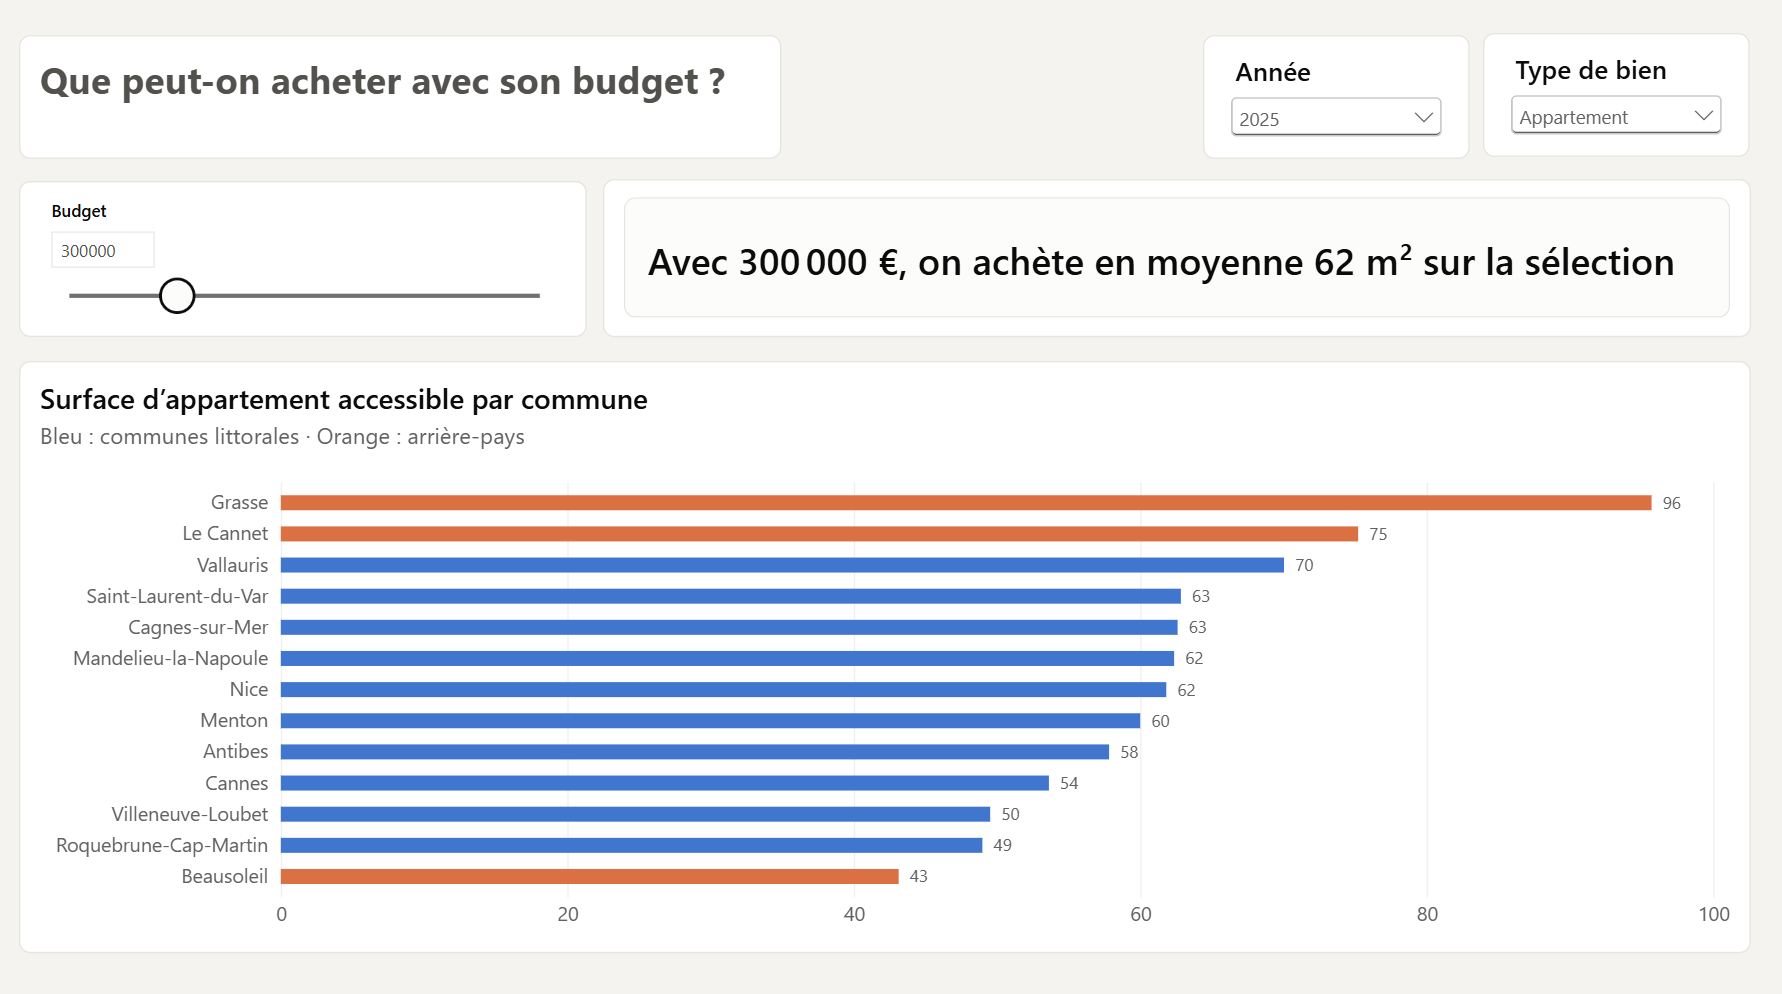

Layout of this report page (visuals, bound fields, positions):
{"tool":"powerbi","page":{"name":"Simulateur","canvas":[1280,720],"ordinal":1},"visuals":[{"type":"slicer","fields":{"Values":["dim_date.annee"]},"box":[865.7,30,190.4,88.5],"z":0},{"type":"slicer","fields":{"Values":["dim_type_bien.type_local"]},"box":[1065.9,27.9,190.4,88.5],"z":1000},{"type":"textbox","box":[20,30,544.3,88.6],"z":2000},{"type":"slicer","fields":{"Values":["Budget.Budget"]},"box":[20,134.3,405.7,111.4],"z":3000},{"type":"cardVisual","fields":{"Data":["_Mesures.Titre budget"]},"box":[437.1,132.9,820,112.9],"z":4000},{"type":"barChart","title":"Surface d’appartement accessible par commune","fields":{"Category":["dim_commune.nom_commune"],"Y":["_Mesures.Surface accessible (m²)"]},"box":[20,262.9,1237.1,422.9],"z":5000}]}

Visuals, with their boxes in screenshot pixels (x1, y1, x2, y2), scaled from the page's 1280x720 canvas onto the 1782x994 screenshot:
slicer - dim_date.annee: select_region(1205, 41, 1470, 164)
slicer - dim_type_bien.type_local: select_region(1484, 39, 1749, 161)
textbox: select_region(28, 41, 786, 164)
slicer - Budget.Budget: select_region(28, 185, 593, 339)
cardVisual - _Mesures.Titre budget: select_region(609, 183, 1750, 339)
"Surface d’appartement accessible par commune" barChart: select_region(28, 363, 1750, 947)
